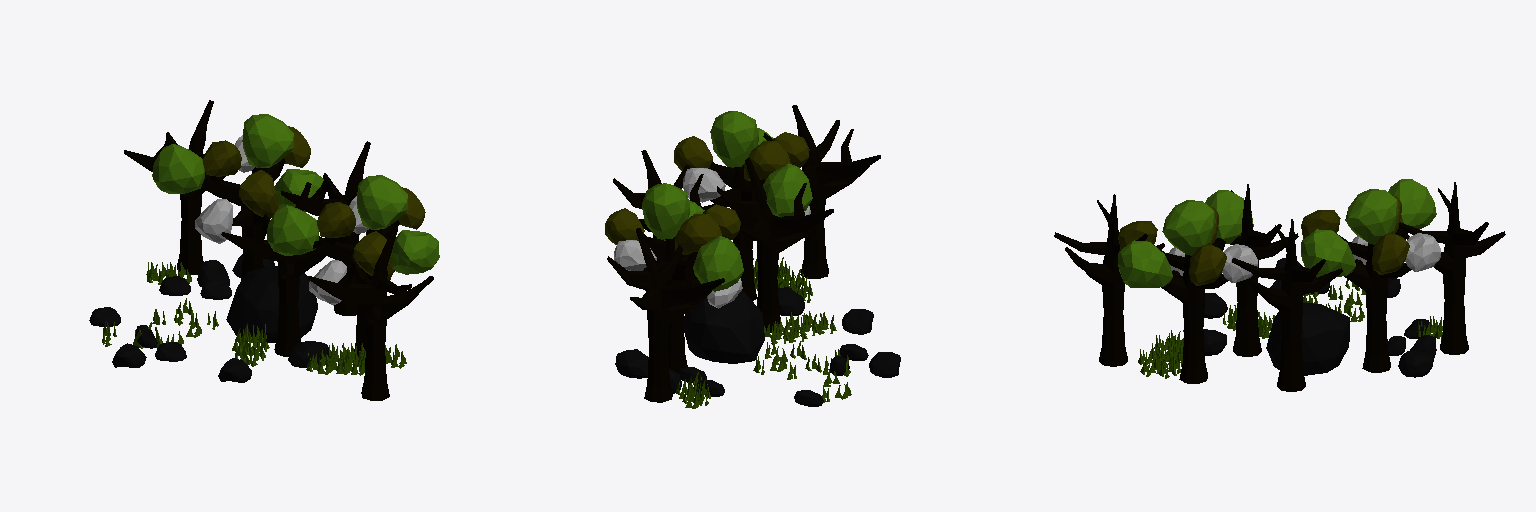
The model's file is conjuntoArvores.obj.
The picture shows the model from 3 angles: view 1: azimuth 30°, elevation 25°; view 2: azimuth 150°, elevation 25°; view 3: azimuth 270°, elevation 25°; orthographic projection.
Visible parts, largest first — view 1: Arbre_Normal.001_Cylinder.006, Arbre_Normal_Cylinder.002, Arbre_Hiver_Cylinder.004, Icosphere.003, Arbre_Hiver.001_Cylinder.010, Arbre_Automne_Cylinder.003, Arbre_Automne.001_Cylinder.009, Cube.002_Cube.026, Cube.003_Cube.027, caillou1.001_Icosphere.010, Caillou3_Icosphere.002, Icosphere.005 (+1 smaller); view 2: Arbre_Normal.001_Cylinder.006, Arbre_Normal_Cylinder.002, Arbre_Automne_Cylinder.003, Arbre_Hiver.001_Cylinder.010, Icosphere.003, Arbre_Hiver_Cylinder.004, Arbre_Automne.001_Cylinder.009, Cube.003_Cube.027, caillou1_Icosphere, Cube.002_Cube.026, Icosphere.005, Caillou3_Icosphere.002 (+2 smaller); view 3: Arbre_Normal.001_Cylinder.006, Arbre_Normal_Cylinder.002, Arbre_Automne.001_Cylinder.009, Arbre_Automne_Cylinder.003, Arbre_Hiver_Cylinder.004, Icosphere.003, Arbre_Hiver.001_Cylinder.010, Cube.002_Cube.026, caillou1_Icosphere.
Boxes of the visible parts, box(x1,y1,x2,y2) form: Arbre_Normal.001_Cylinder.006: box(152, 114, 324, 280); Arbre_Normal_Cylinder.002: box(267, 175, 439, 356); Arbre_Hiver_Cylinder.004: box(308, 226, 433, 400); Icosphere.003: box(226, 265, 317, 342); Arbre_Hiver.001_Cylinder.010: box(221, 182, 344, 356); Arbre_Automne_Cylinder.003: box(124, 100, 225, 274); Arbre_Automne.001_Cylinder.009: box(281, 141, 370, 315); Cube.002_Cube.026: box(306, 343, 406, 375); Cube.003_Cube.027: box(232, 323, 269, 366); caillou1.001_Icosphere.010: box(288, 341, 328, 367); Caillou3_Icosphere.002: box(218, 358, 251, 382); Icosphere.005: box(112, 343, 146, 367); Arbre_Normal.001_Cylinder.006: box(605, 183, 743, 372); Arbre_Normal_Cylinder.002: box(674, 111, 812, 300); Arbre_Automne_Cylinder.003: box(607, 228, 724, 402); Arbre_Hiver.001_Cylinder.010: box(717, 158, 833, 332); Icosphere.003: box(684, 291, 764, 363); Arbre_Hiver_Cylinder.004: box(763, 105, 880, 278); Arbre_Automne.001_Cylinder.009: box(613, 150, 730, 262); Cube.003_Cube.027: box(764, 311, 836, 344); caillou1_Icosphere: box(615, 349, 648, 378); Cube.002_Cube.026: box(753, 257, 812, 302); Icosphere.005: box(869, 352, 900, 377); Caillou3_Icosphere.002: box(842, 309, 873, 334); Arbre_Normal.001_Cylinder.006: box(1301, 179, 1440, 372); Arbre_Normal_Cylinder.002: box(1118, 190, 1257, 383); Arbre_Automne.001_Cylinder.009: box(1232, 219, 1342, 391); Arbre_Automne_Cylinder.003: box(1399, 182, 1505, 354); Arbre_Hiver_Cylinder.004: box(1054, 194, 1164, 366); Icosphere.003: box(1266, 303, 1349, 375); Arbre_Hiver.001_Cylinder.010: box(1230, 184, 1298, 356); Cube.002_Cube.026: box(1138, 330, 1183, 378); caillou1_Icosphere: box(1398, 351, 1433, 377).
Size of the model in its own units: 6.14 by 4 by 8.83.